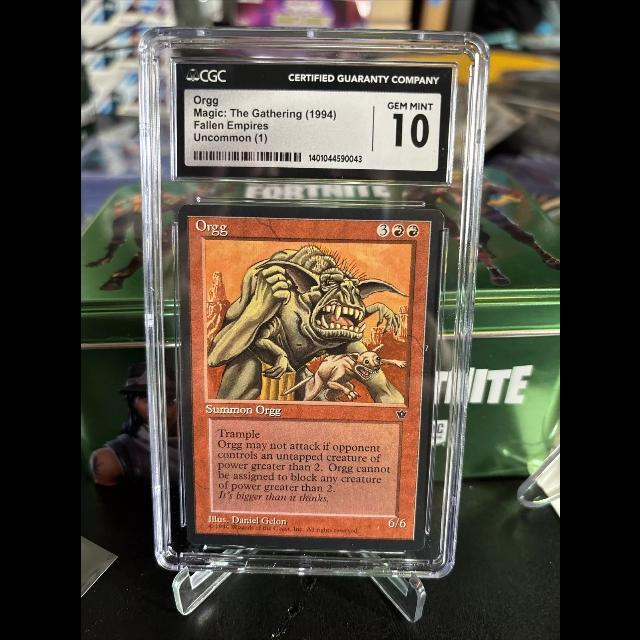card: (175, 203, 445, 549)
cgc_label: (172, 61, 453, 184)
cgc_slab: (137, 26, 493, 579)
